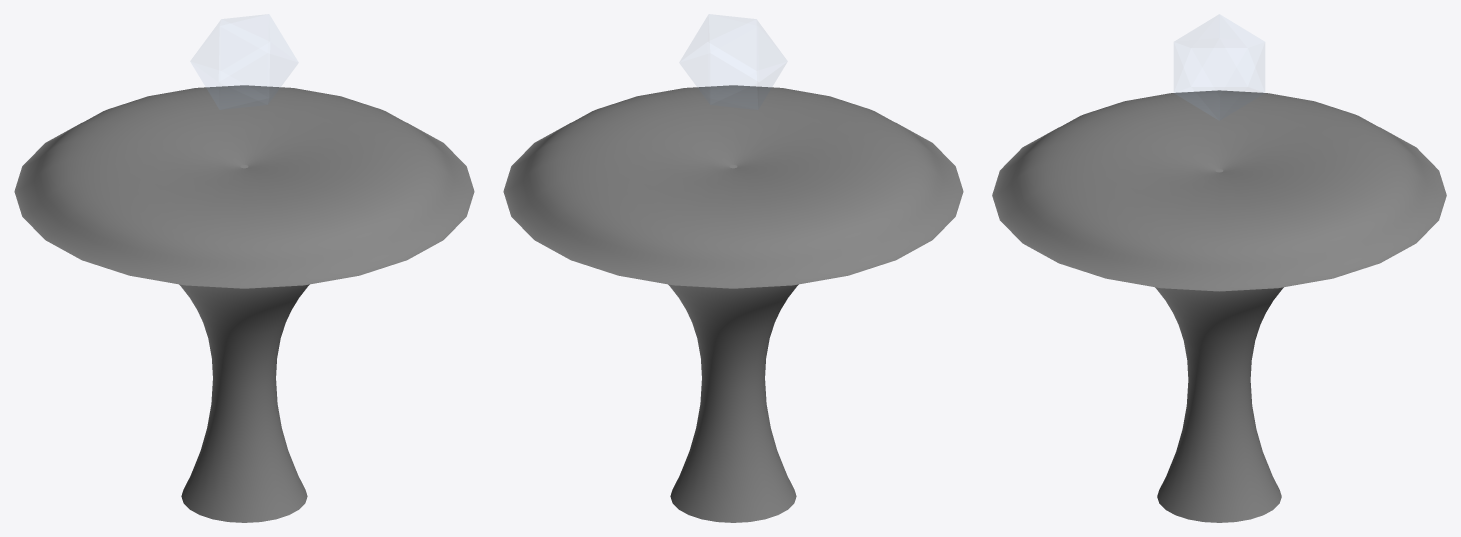
Rendered from Fuente.fbx.
The picture shows the model from 3 angles, left to right: view 1: azimuth 30°, elevation 25°; view 2: azimuth 150°, elevation 25°; view 3: azimuth 270°, elevation 25°; orthographic projection.
Parts seen in each view (by area): view 1: NURBS_Torno_, Platónico; view 2: NURBS_Torno_, Platónico; view 3: NURBS_Torno_, Platónico.
Boxes of the visible parts, <box> form: NURBS_Torno_: <box>14,85,474,522</box>; Platónico: <box>191,14,297,109</box>; NURBS_Torno_: <box>503,85,963,522</box>; Platónico: <box>680,14,786,109</box>; NURBS_Torno_: <box>992,90,1446,522</box>; Platónico: <box>1174,15,1264,119</box>.
Bounding box in the file's own units: 2564 × 2928 × 2564.
